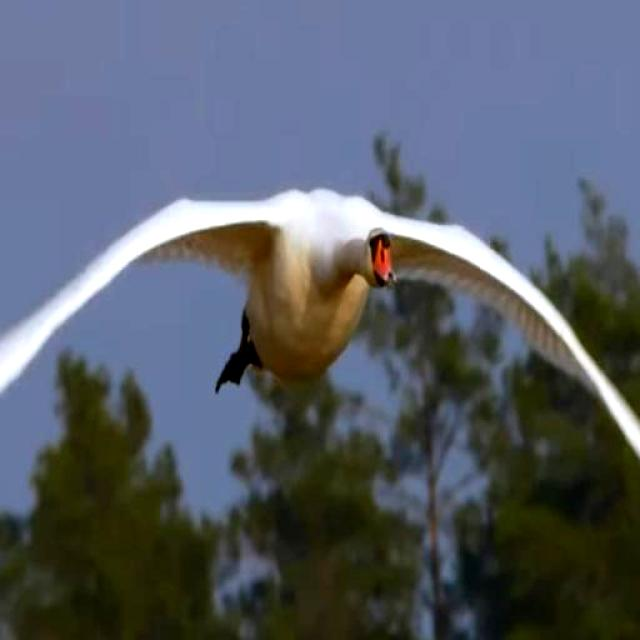airplane: (0, 164, 640, 574)
